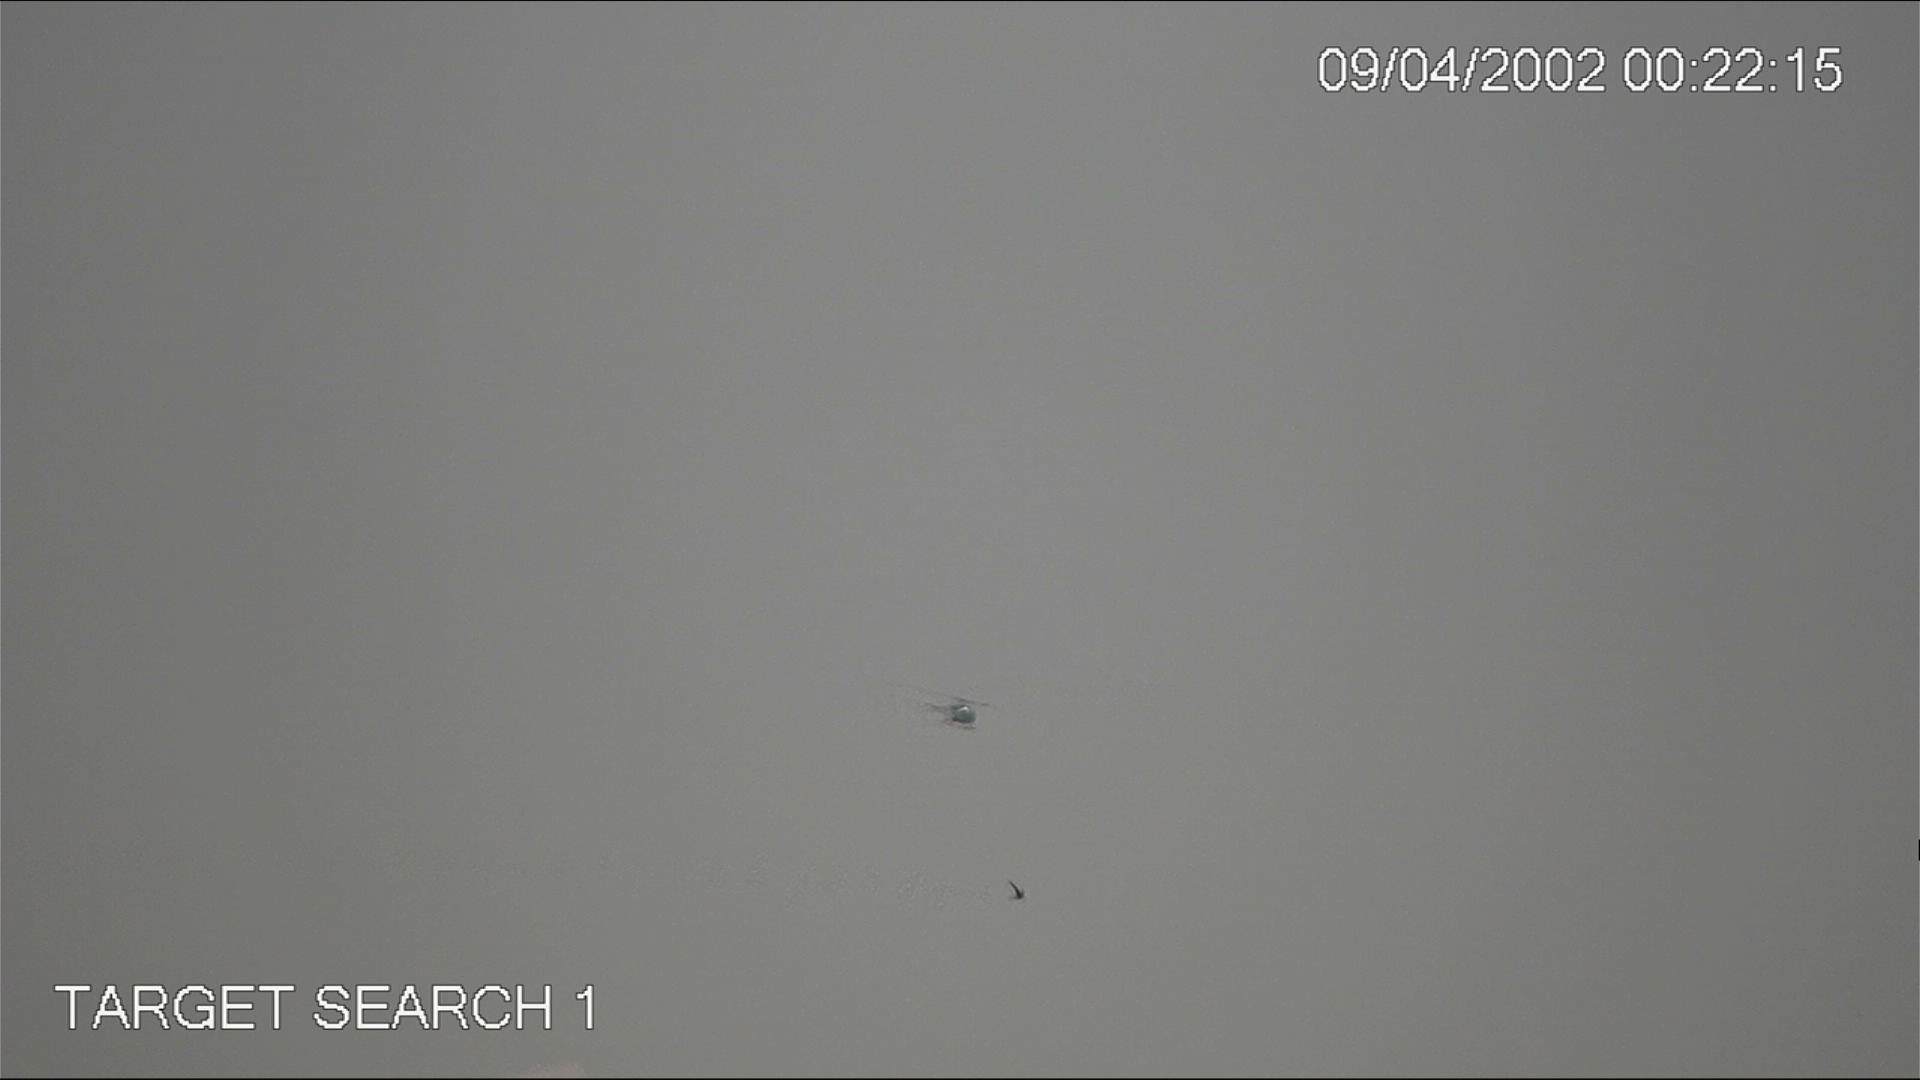SU_30: (915, 686, 985, 731)
